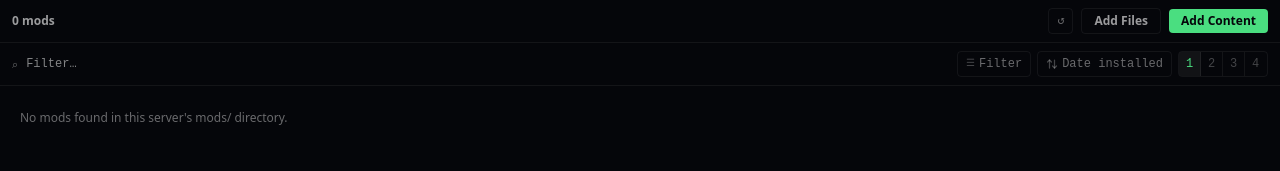
ModsTile › shows why Add Files failed
# The maximized face is lazy, so it arrives a tick after the render.
Click the button "Add Files".
click(1121, 21)  # box [1082,8,1161,34]
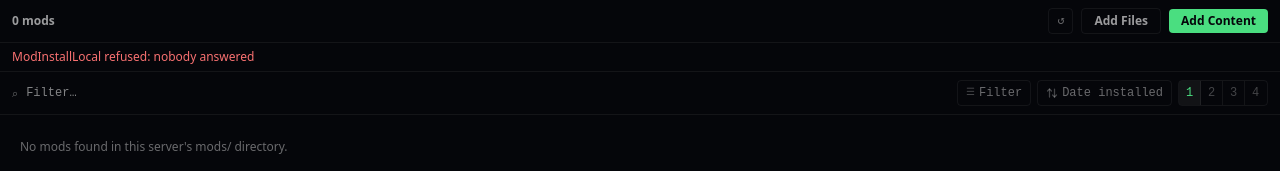
Now the message reads "ModInstallLocal refused: nobody answered", box [12,48,254,65]
# A second try clears it.
Click the button "Add Files".
click(1121, 21)  # box [1082,8,1161,34]
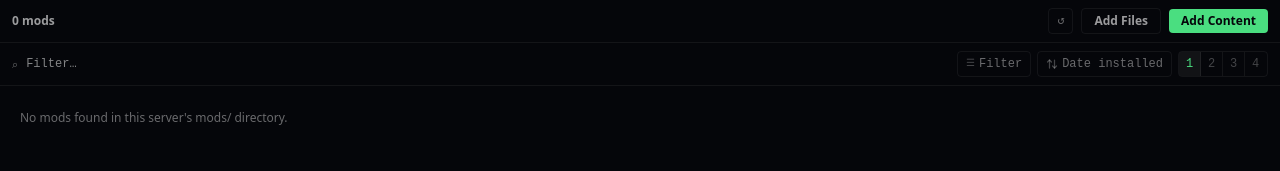
Now the message "ModInstallLocal refused: nobody answered" is gone
